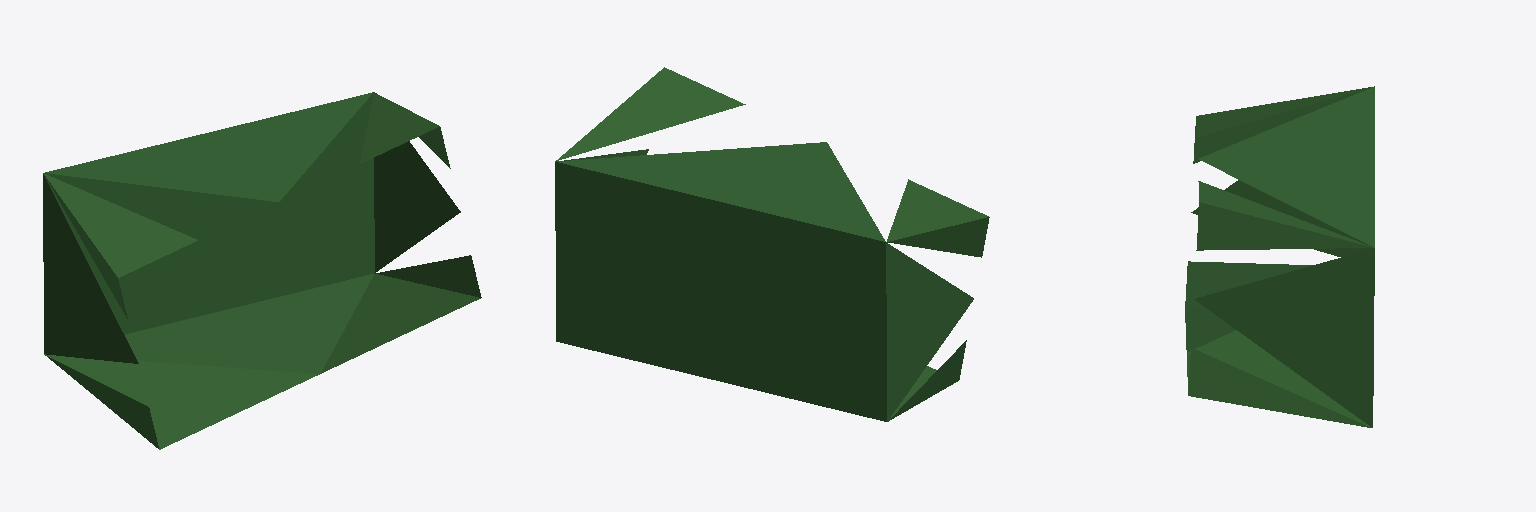
Rendered from glass_brick.obj.
3 views of the same model, side by side, from view 1: azimuth 30°, elevation 25°; view 2: azimuth 150°, elevation 25°; view 3: azimuth 270°, elevation 25° (orthographic).
Bounding box in the file's own units: 2.17 × 1.43 × 0.9942.